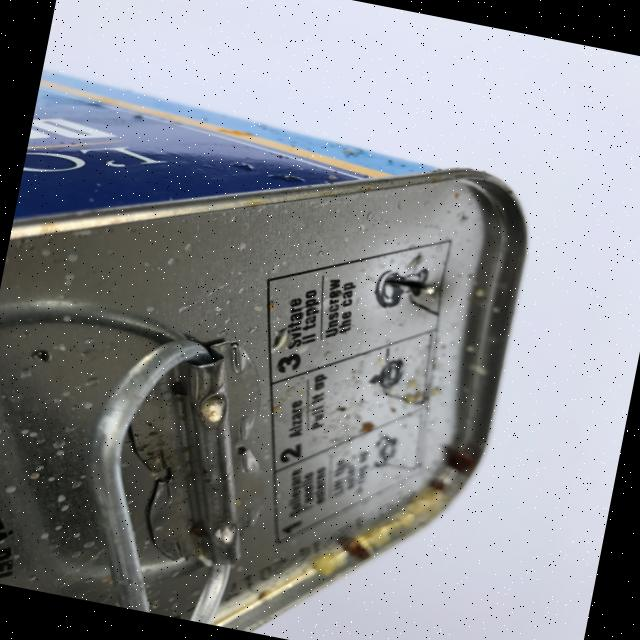metal: (0, 80, 542, 640)
